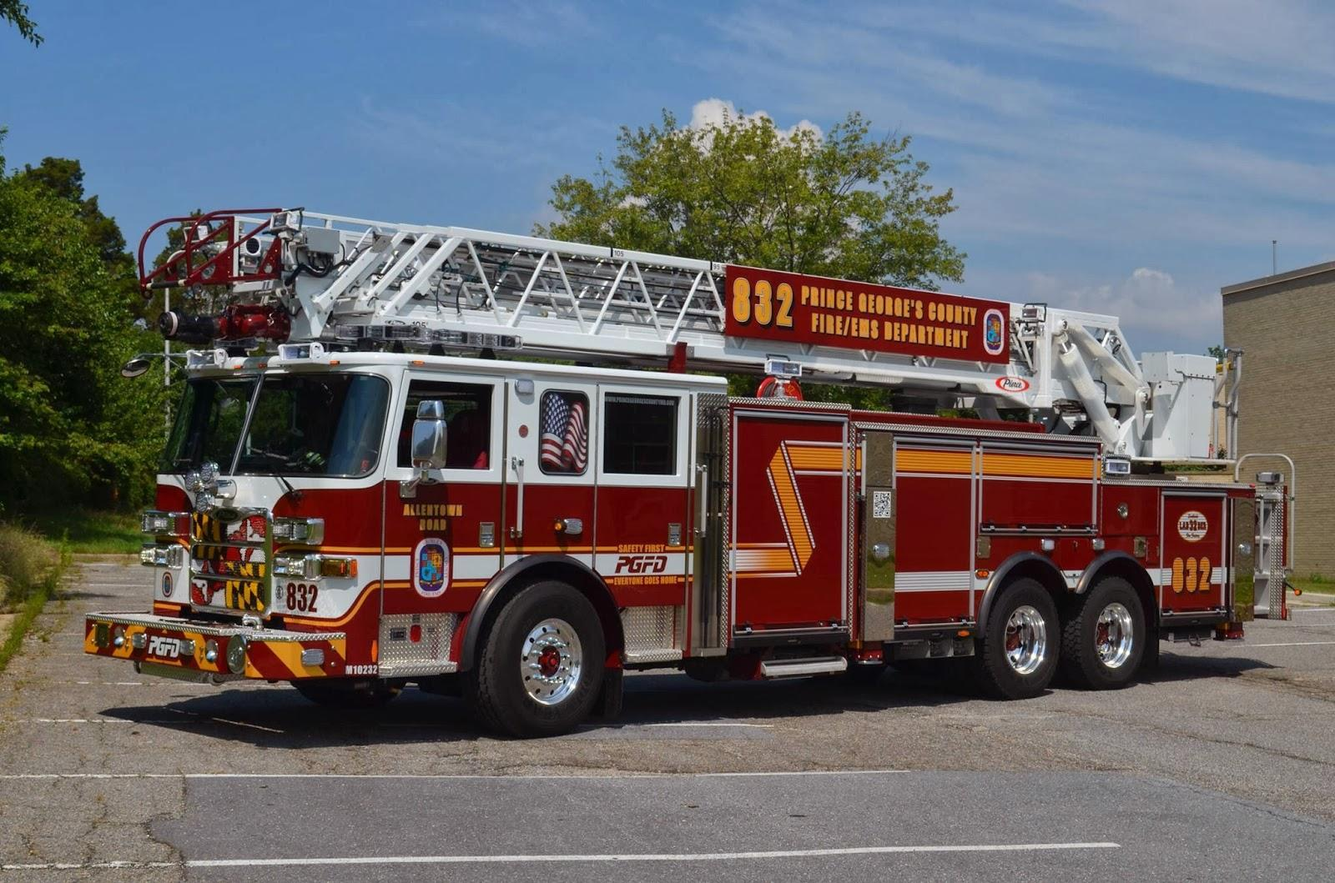Fire-engine: (89, 213, 1291, 740)
